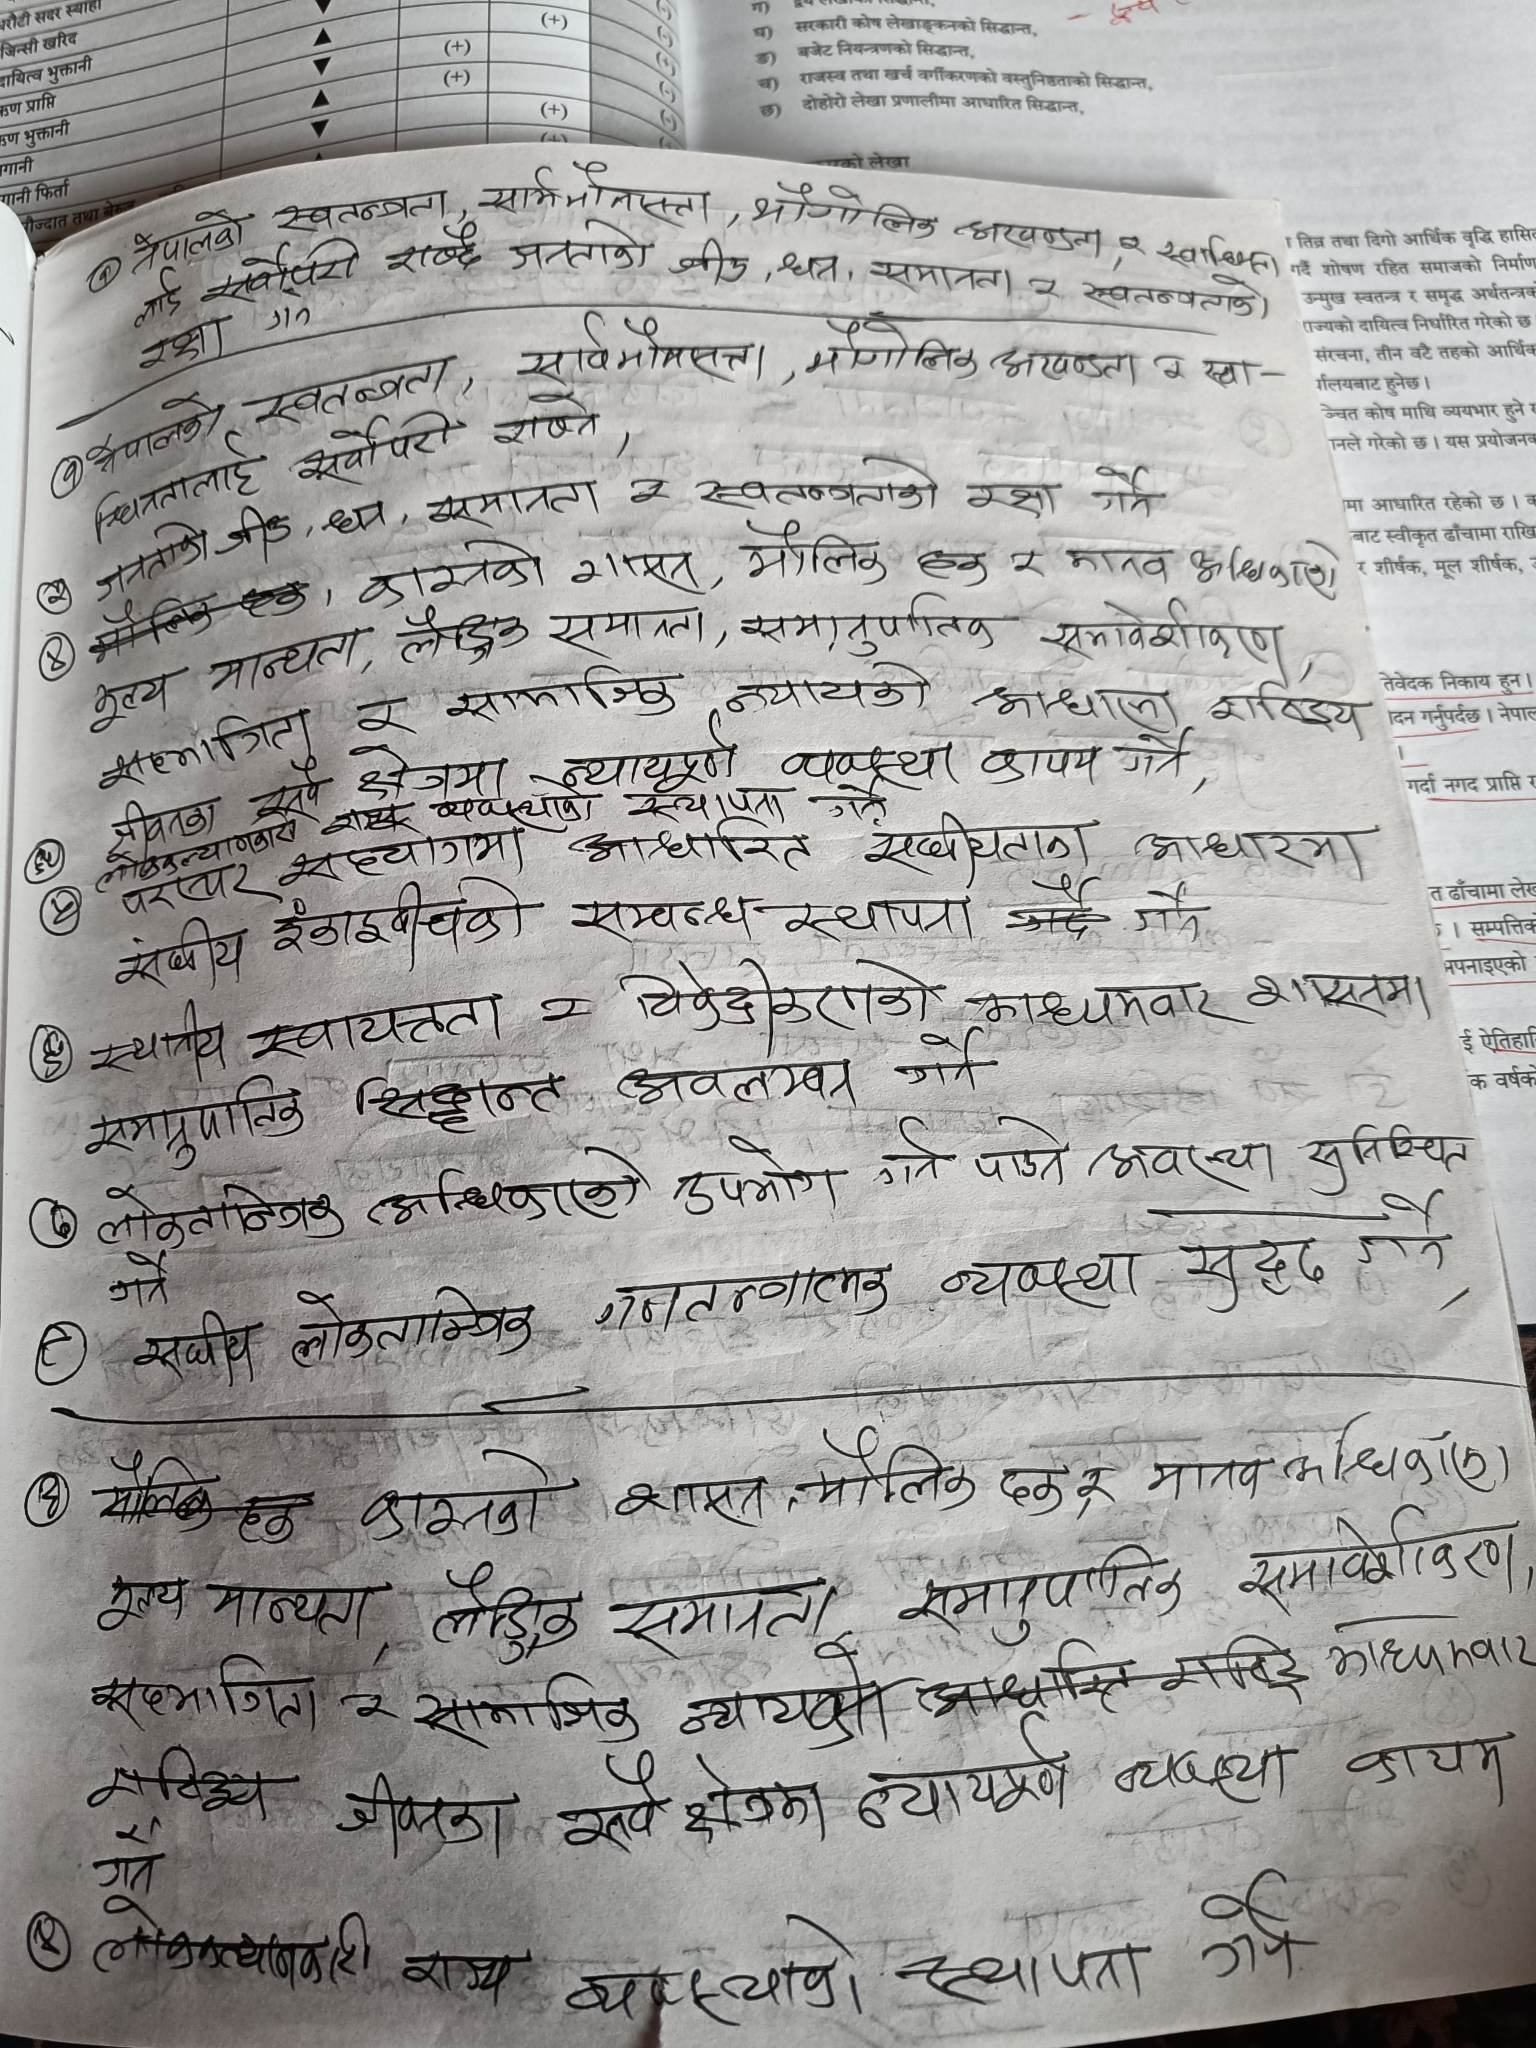text: (560, 1911, 871, 2025), (1238, 1501, 1534, 1606), (892, 1543, 1192, 1645), (87, 1896, 378, 2000), (854, 1716, 1079, 1834), (360, 1145, 650, 1234), (581, 1255, 904, 1330), (608, 958, 941, 1030), (286, 1277, 541, 1371), (674, 1643, 899, 1746), (266, 880, 537, 959), (1279, 1405, 1515, 1493), (82, 1072, 303, 1166), (86, 1653, 326, 1737), (355, 1450, 568, 1543), (415, 1664, 636, 1753), (692, 447, 949, 522), (737, 587, 1004, 656), (513, 310, 771, 381), (607, 1577, 833, 1658), (86, 1177, 349, 1245), (895, 1942, 1155, 2009), (253, 987, 515, 1053), (334, 1774, 524, 1864), (74, 1740, 282, 1822), (342, 1066, 573, 1140), (1036, 598, 1289, 664), (794, 1426, 981, 1514), (549, 705, 742, 789), (431, 1559, 581, 1664), (674, 1130, 845, 1222), (279, 822, 544, 880), (934, 1247, 1149, 1317), (97, 721, 331, 785), (855, 811, 1100, 872), (966, 972, 1225, 1030), (611, 1055, 868, 1113), (678, 1751, 834, 1846), (1323, 1609, 1515, 1687), (442, 663, 687, 722), (252, 352, 445, 426), (1112, 1743, 1304, 1816), (1300, 1118, 1480, 1193), (1342, 1732, 1512, 1811), (799, 318, 983, 390), (1196, 1871, 1309, 1987), (568, 819, 821, 871), (357, 535, 553, 601), (547, 1751, 668, 1858), (768, 893, 975, 955), (724, 656, 942, 713), (282, 419, 468, 485), (1179, 1230, 1328, 1313), (1134, 821, 1370, 872), (77, 397, 223, 479), (963, 677, 1171, 732), (1092, 1134, 1283, 1193), (203, 1572, 374, 1638), (737, 521, 894, 592), (203, 235, 358, 306), (749, 182, 941, 239), (129, 1305, 261, 1385), (565, 892, 757, 947), (423, 469, 608, 526), (1192, 532, 1342, 601), (611, 1472, 774, 1534), (115, 919, 248, 993), (202, 632, 355, 697), (86, 1006, 227, 1076), (474, 179, 708, 221), (353, 739, 511, 800), (774, 735, 966, 785), (387, 605, 537, 668), (1081, 274, 1263, 326), (1208, 677, 1375, 732), (507, 214, 655, 274), (547, 600, 708, 655), (1350, 1192, 1455, 1276), (1242, 971, 1428, 1018), (966, 1114, 1075, 1192), (89, 526, 224, 587), (273, 185, 449, 232), (394, 1943, 521, 2008), (482, 393, 613, 453), (983, 342, 1146, 389), (860, 253, 1015, 302), (955, 211, 1105, 260), (561, 547, 712, 593), (119, 871, 268, 918), (102, 793, 221, 851), (887, 1034, 994, 1097), (90, 1572, 192, 1637), (978, 739, 1100, 792), (1150, 227, 1275, 279), (87, 664, 179, 734), (131, 211, 244, 266), (866, 1111, 945, 1188), (1087, 456, 1171, 527), (1141, 1453, 1267, 1500), (127, 318, 236, 368), (97, 1251, 181, 1314), (92, 1825, 166, 1896), (962, 476, 1066, 526), (1125, 880, 1204, 945), (381, 232, 482, 281), (1062, 540, 1175, 584), (668, 235, 757, 289), (994, 1455, 1068, 1514), (1113, 726, 1184, 780), (127, 269, 186, 331), (770, 247, 847, 292), (323, 493, 389, 545), (532, 980, 591, 1039), (352, 697, 424, 742), (913, 545, 989, 587), (340, 1685, 402, 1737), (1202, 355, 1262, 400), (258, 298, 321, 335), (1075, 1458, 1112, 1508), (1002, 545, 1050, 581), (1150, 347, 1189, 390), (1023, 268, 1066, 305), (1120, 226, 1147, 260)
